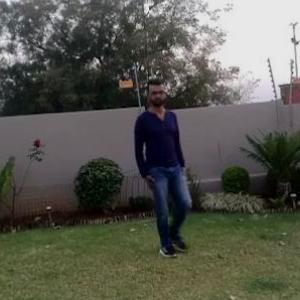follow: (121, 77, 181, 254)
